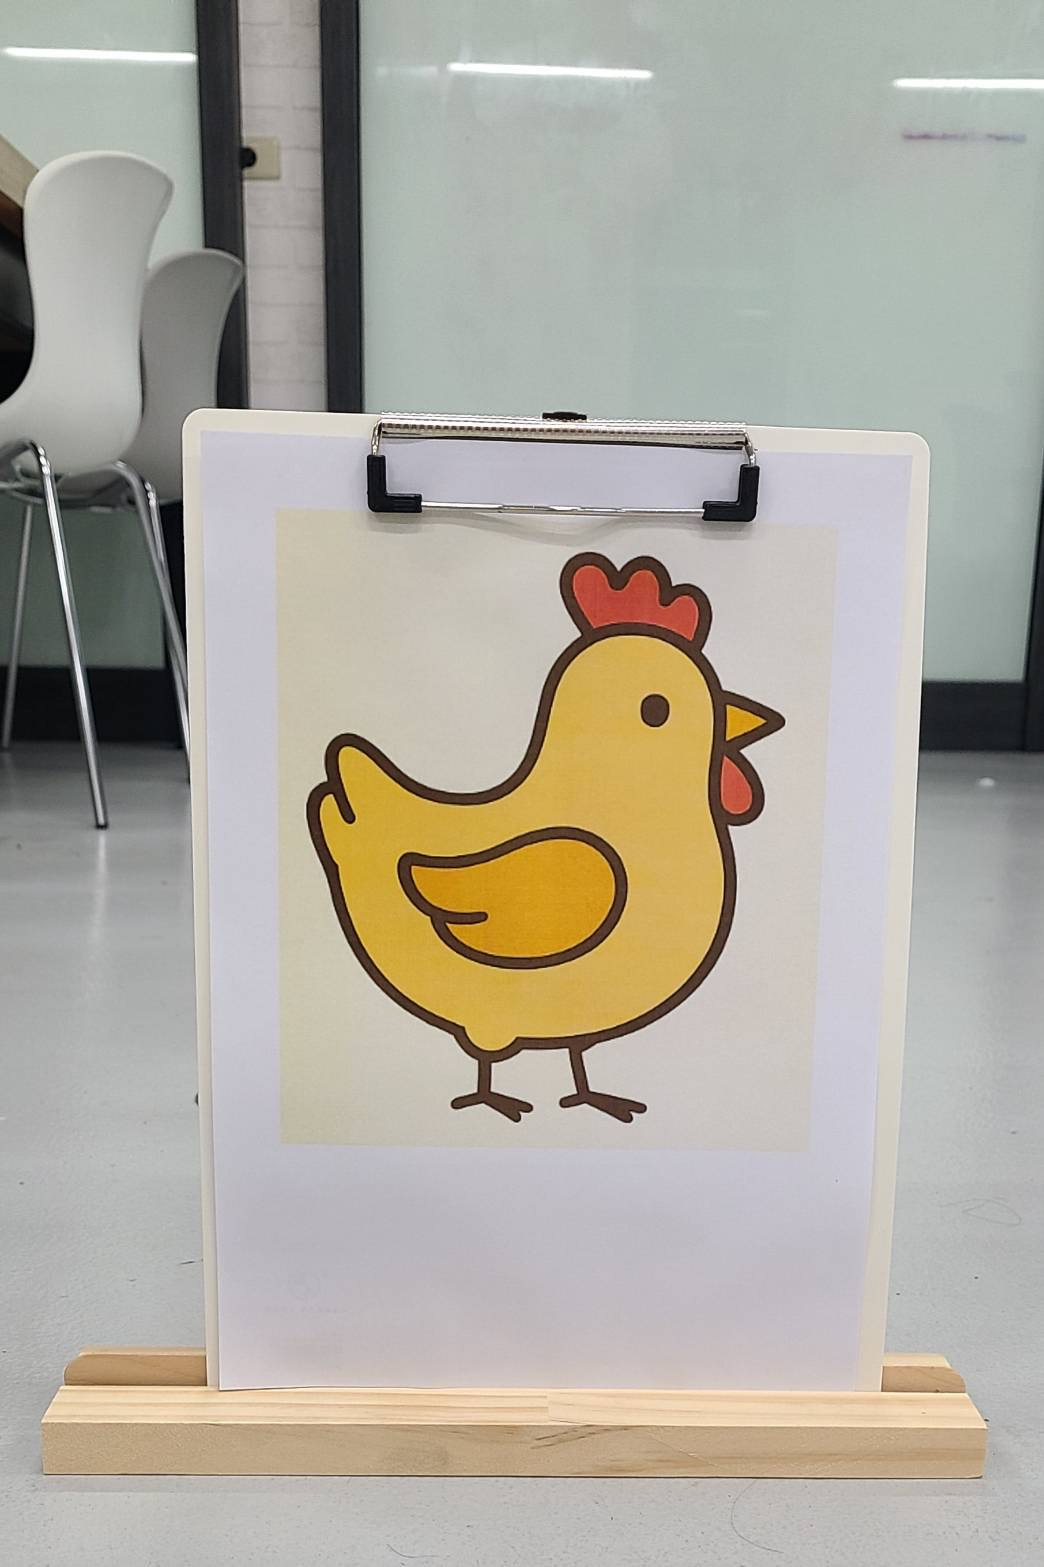chick: (306, 550, 784, 1142)
